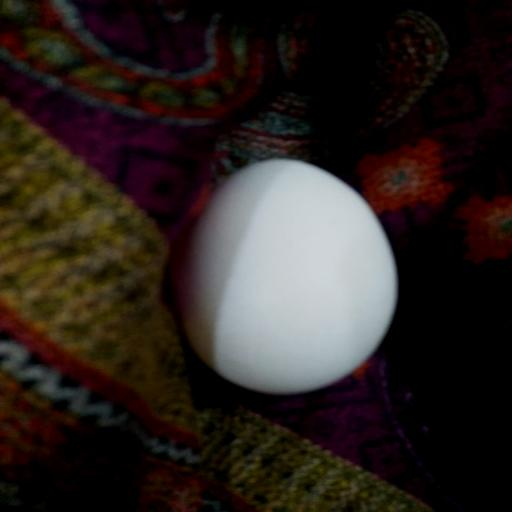telur: (172, 157, 406, 397)
